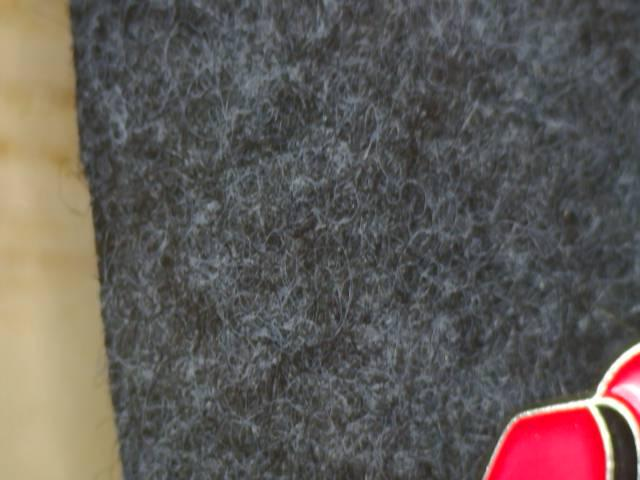Red-Hat: (440, 294, 640, 480)
